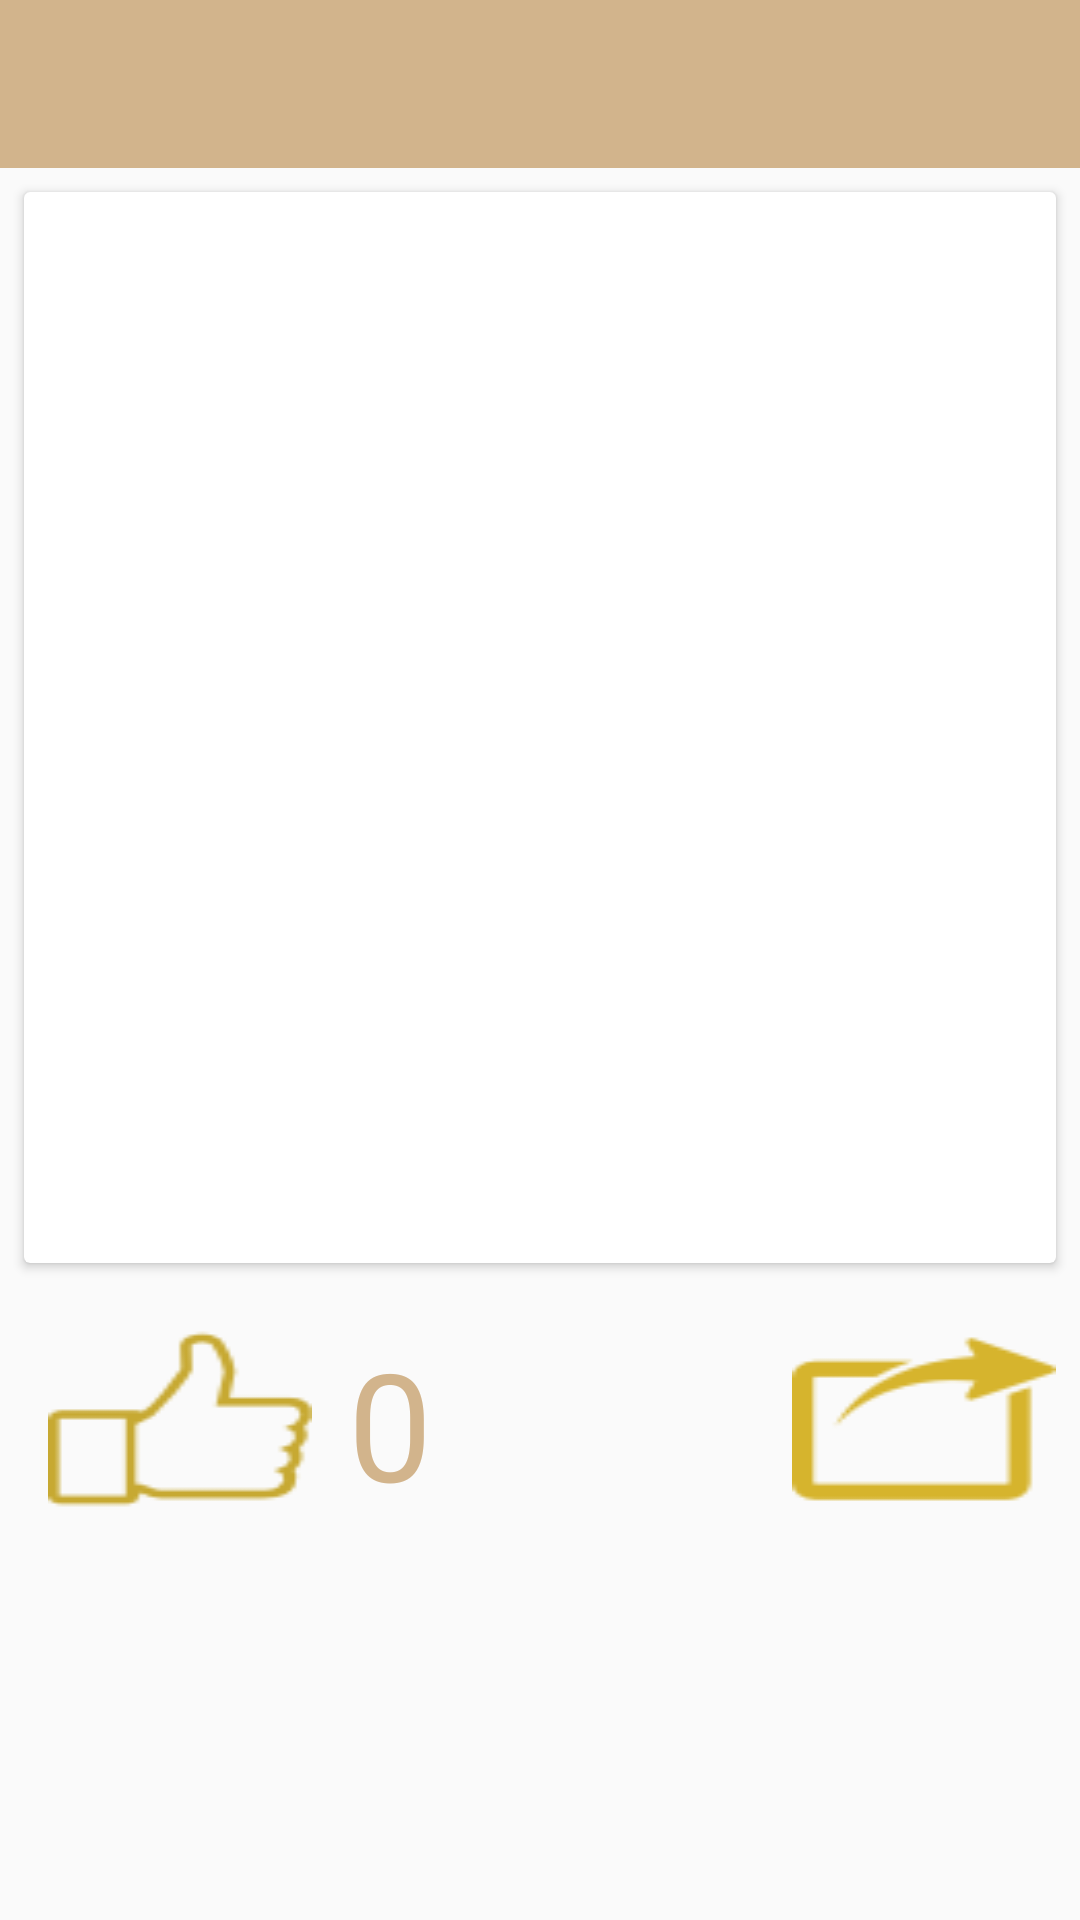

Where icons sit on this 1080*1920 app screen, as (x1, y1, x2, y2):
share: (792, 1337, 1056, 1501)
thumb up: (48, 1332, 312, 1506)
